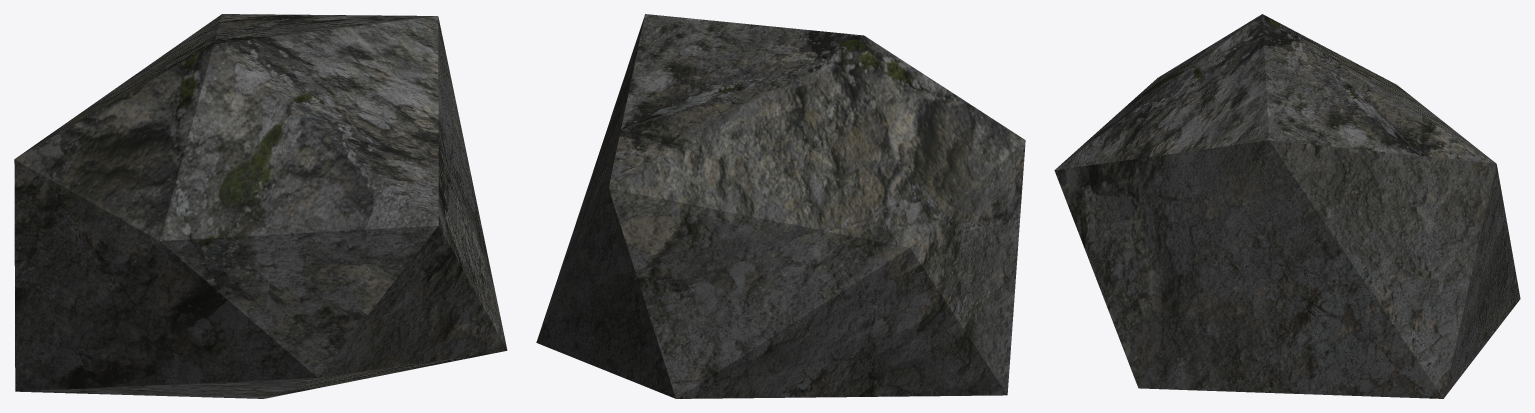
The model's file is Rock_4.fbx.
The picture shows the model from 3 angles, left to right: view 1: azimuth 30°, elevation 25°; view 2: azimuth 150°, elevation 25°; view 3: azimuth 270°, elevation 25°; orthographic projection. The views are drawn at different scales.
Parts seen in each view (by area): view 1: Rock_4; view 2: Rock_4; view 3: Rock_4.
Boxes of the visible parts, bbox=[...] form: Rock_4: bbox=[14, 14, 507, 398]; Rock_4: bbox=[536, 14, 1025, 398]; Rock_4: bbox=[1054, 14, 1520, 398].
Size of the model in its own units: 58.33 by 48.59 by 62.63.
